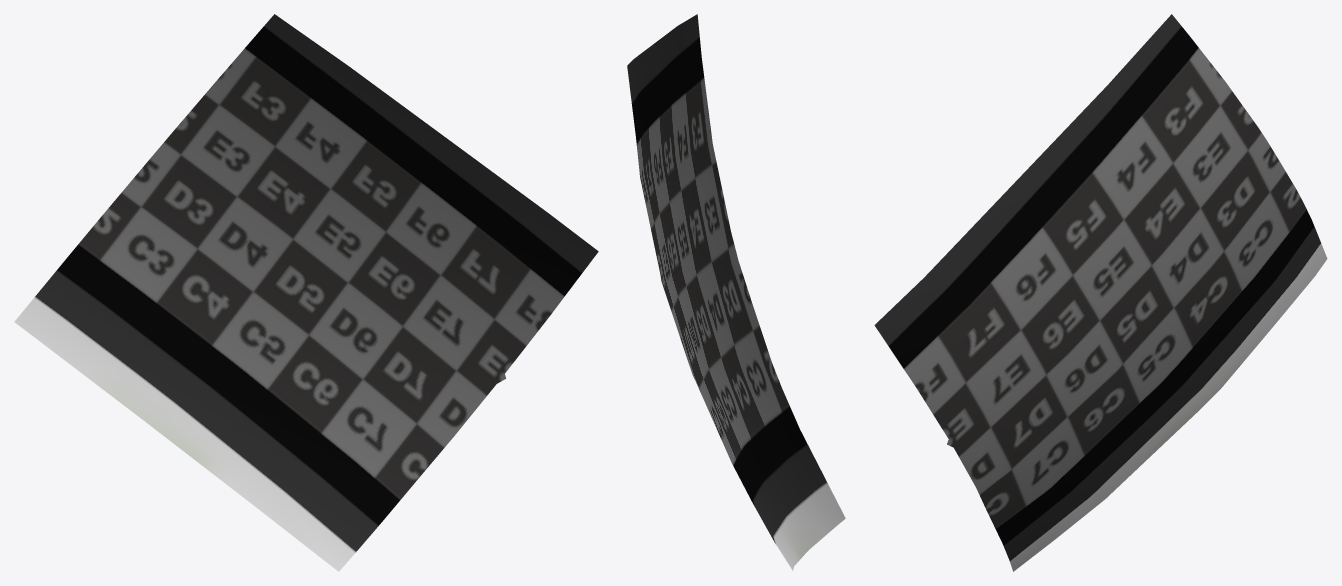
The model's file is status_right.obj.
3 renders of one model, left to right at view 1: azimuth 30°, elevation 25°; view 2: azimuth 150°, elevation 25°; view 3: azimuth 270°, elevation 25°, orthographic. The views are drawn at different scales.
Parts seen in each view (by area): view 1: status_top_R; view 2: status_top_R; view 3: status_top_R.
Part boxes in pixels (bbox=[...]): status_top_R: bbox=[14, 14, 598, 571]; status_top_R: bbox=[627, 14, 845, 570]; status_top_R: bbox=[874, 14, 1327, 571].
Size of the model in its own units: 0.0132 by 0.0167 by 0.0122.
1 material, 1 textured.
